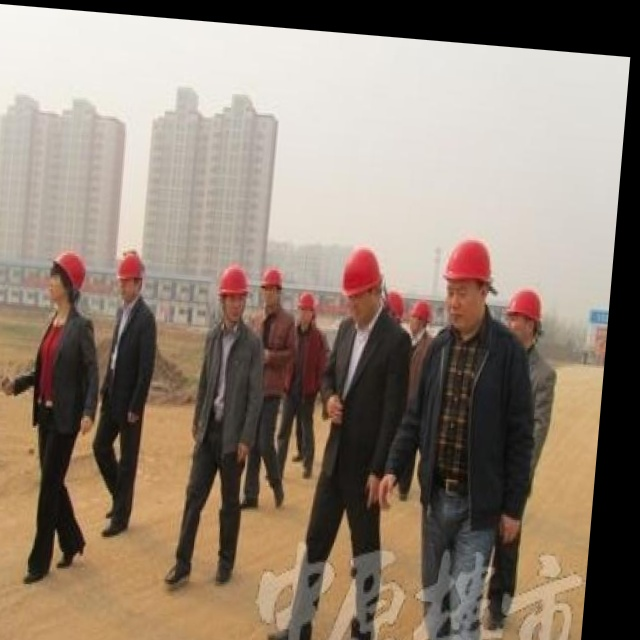Con_Casco: (49, 251, 88, 312), (216, 262, 252, 326), (114, 246, 149, 302)
